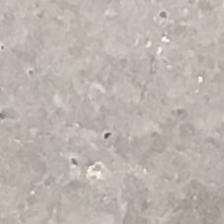Non_Crack: (14, 36, 223, 223)
